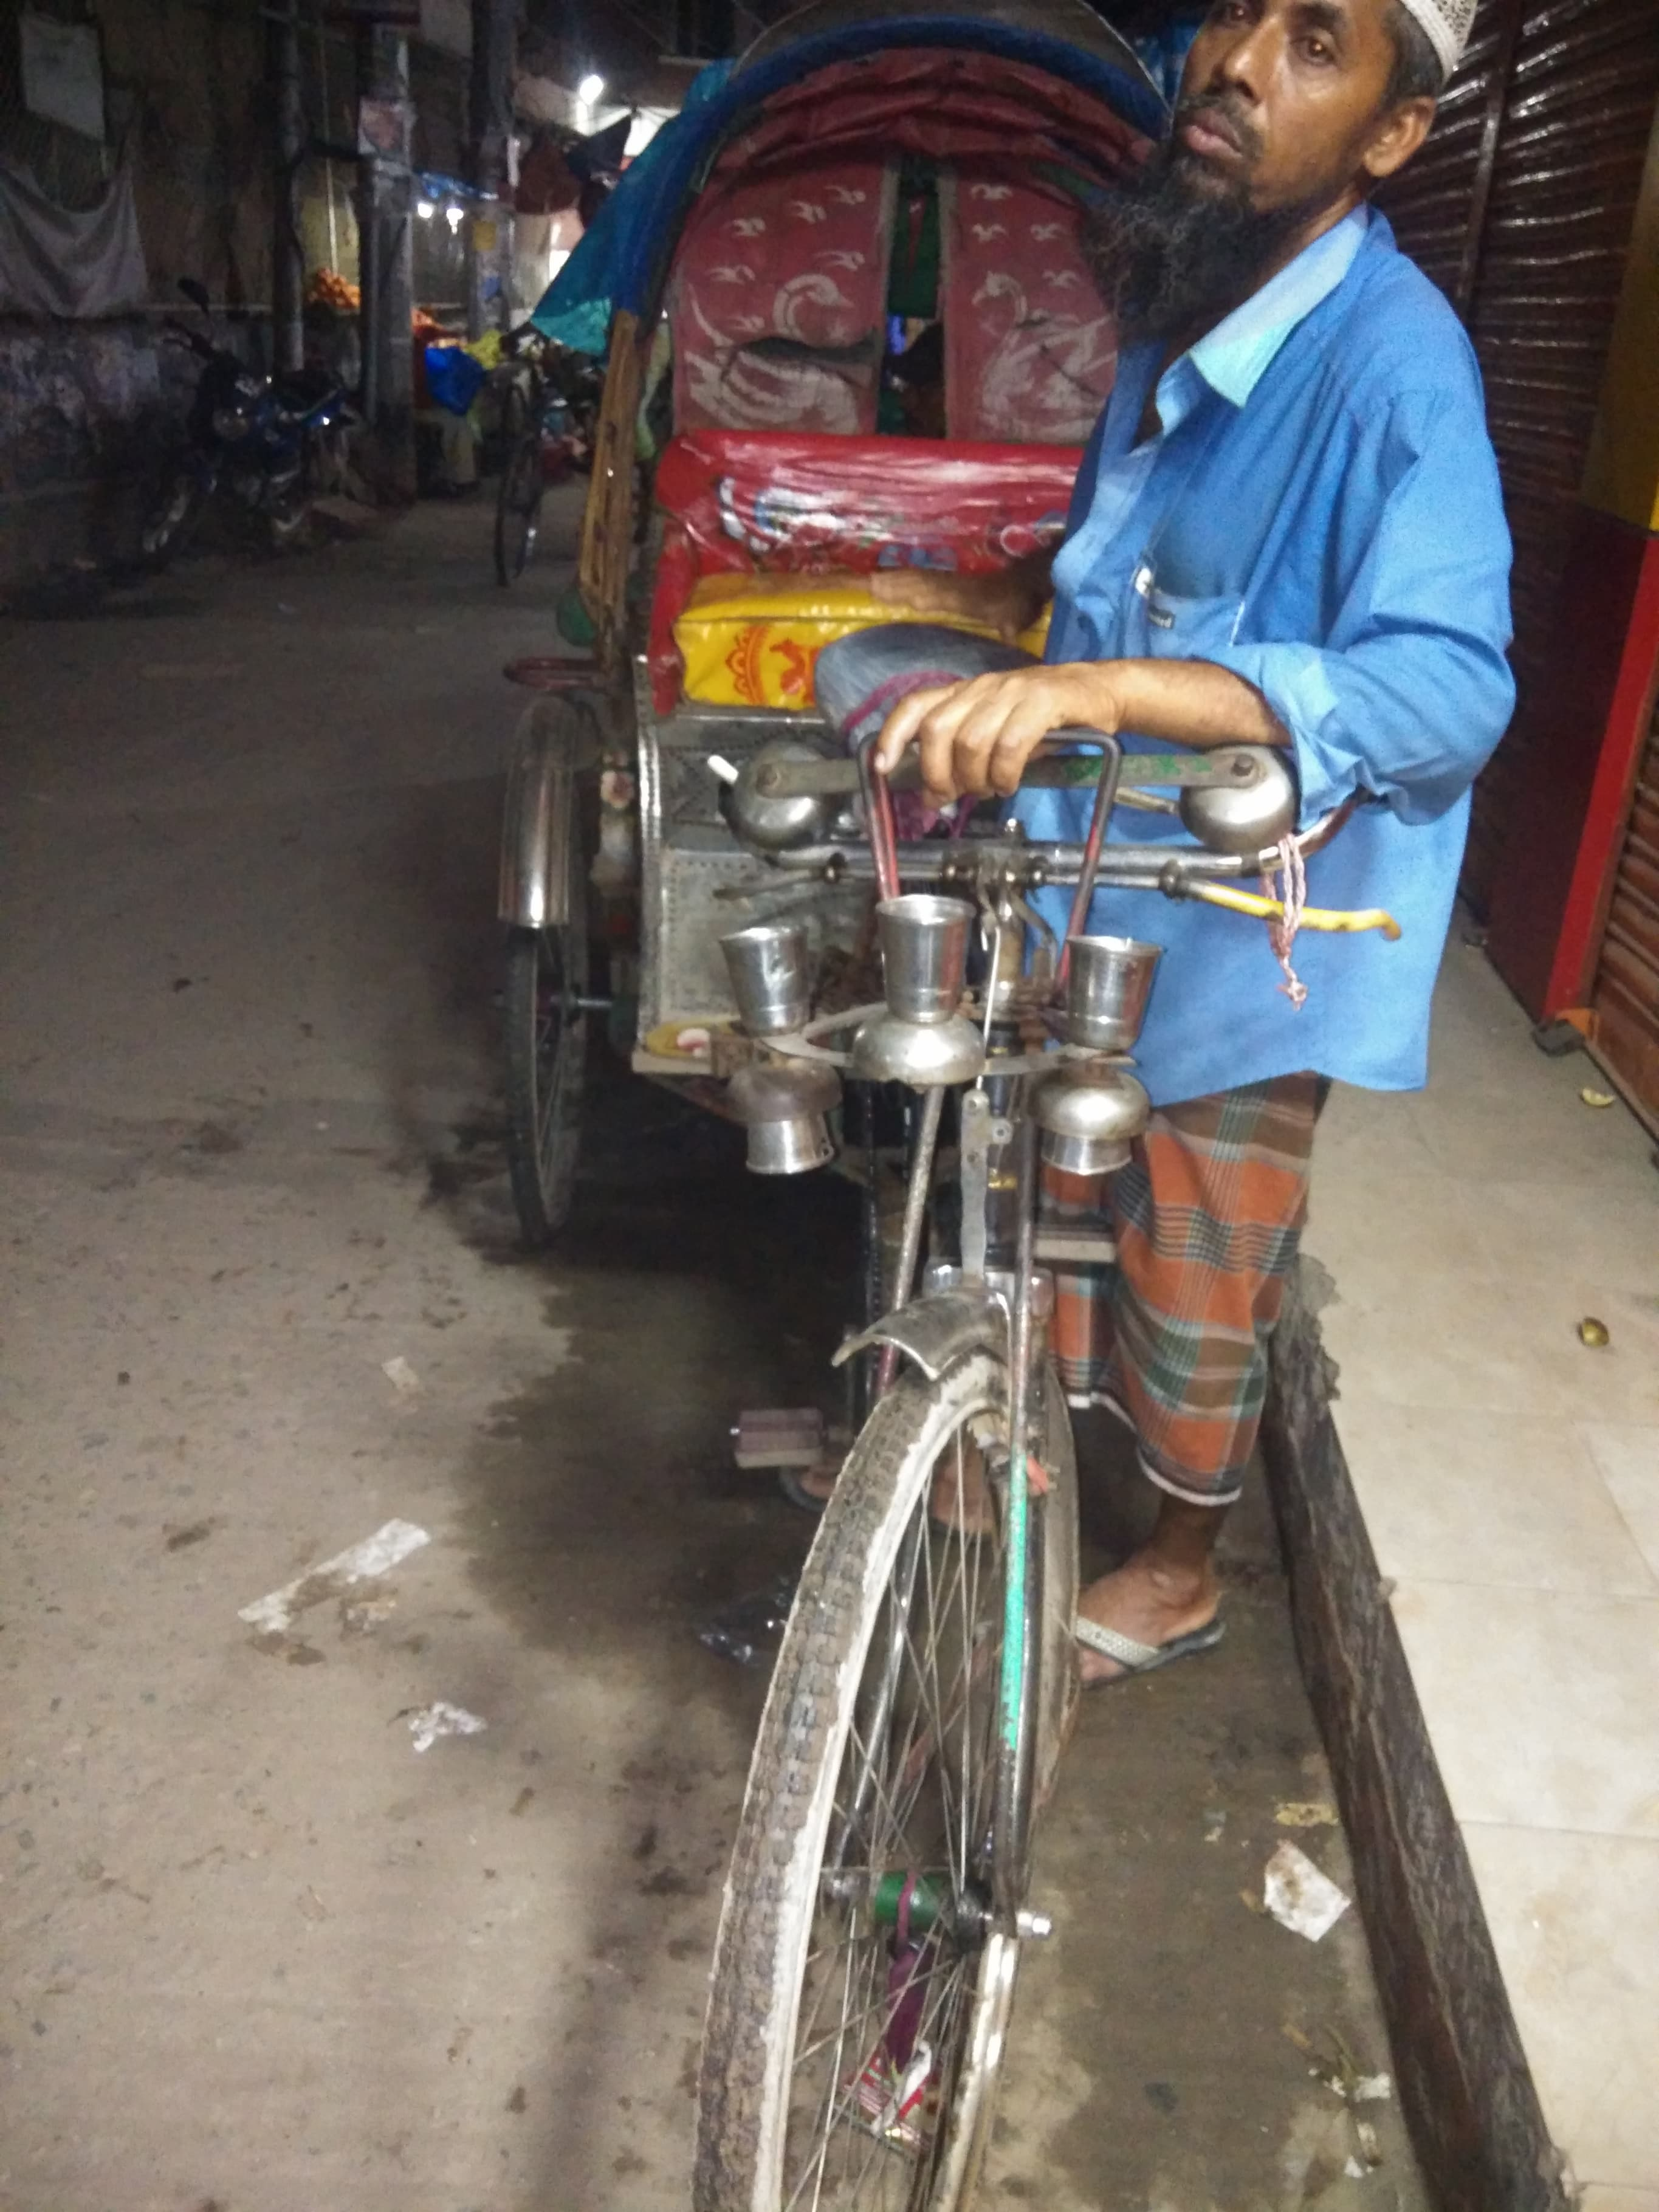Rickshaw: (491, 42, 1253, 1862)
